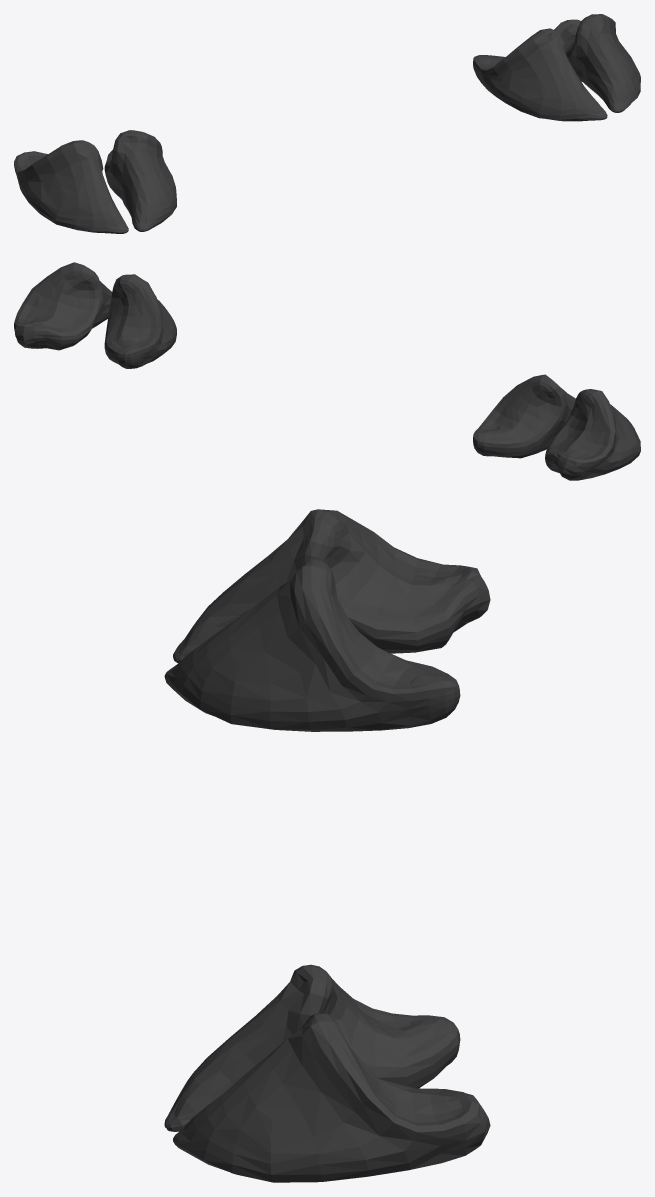
3 renders of one model, top to bottom at view 1: azimuth 30°, elevation 25°; view 2: azimuth 150°, elevation 25°; view 3: azimuth 270°, elevation 25°, orthographic. The views are drawn at different scales.
Visible parts, largest first — view 1: b_FL_P3_L_LO; view 2: b_FL_P3_L_LO; view 3: b_FL_P3_L_LO.
Boxes of the visible parts, left/top/right/bottom form: b_FL_P3_L_LO: left=14, top=14, right=640, bottom=233; b_FL_P3_L_LO: left=14, top=262, right=640, bottom=480; b_FL_P3_L_LO: left=164, top=509, right=490, bottom=1182.
Size of the model in its own units: 0.00367 by 0.000415 by 0.00087.
Materials: 1 (1 with a texture image).
